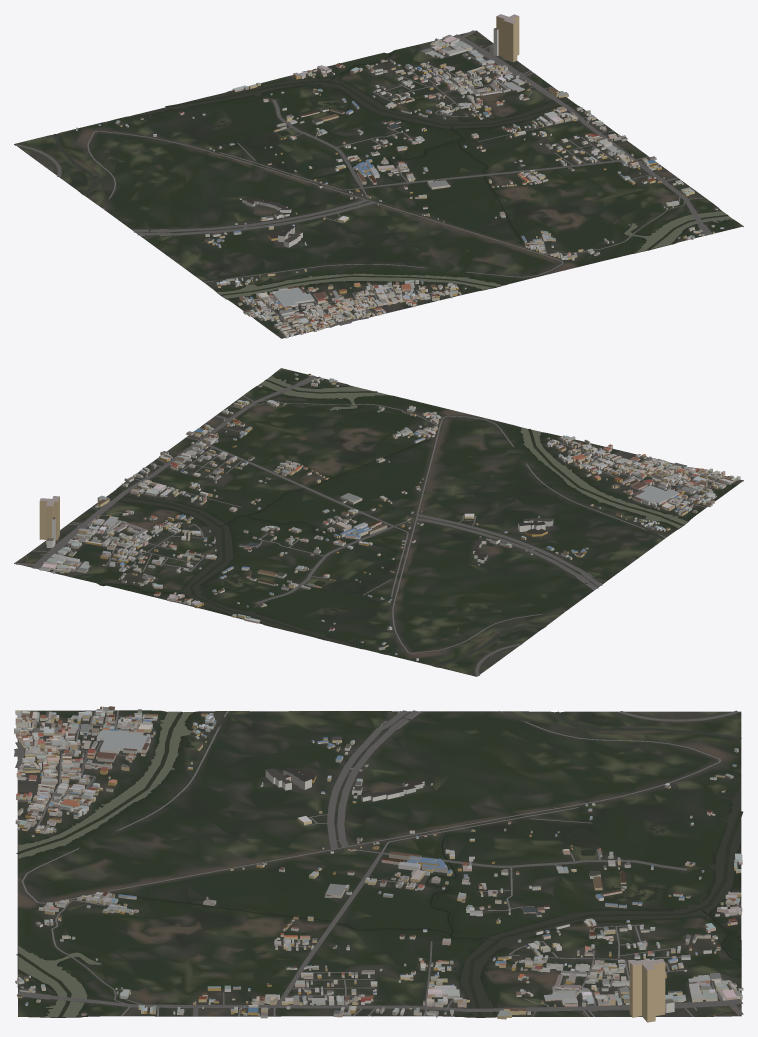
3 views of the same model, one above another, from view 1: azimuth 30°, elevation 25°; view 2: azimuth 150°, elevation 25°; view 3: azimuth 270°, elevation 25° (orthographic). The views are drawn at different scales.
Parts seen in each view (by area): view 1: ground, buildings, water, roads; view 2: ground, buildings, water, roads; view 3: ground, buildings, water, roads.
Boxes of the visible parts, left/top/right/bottom form: ground: left=14, top=30, right=743, bottom=338; buildings: left=76, top=14, right=724, bottom=338; water: left=54, top=52, right=732, bottom=298; roads: left=15, top=30, right=712, bottom=334; ground: left=14, top=368, right=743, bottom=676; buildings: left=39, top=373, right=740, bottom=660; water: left=100, top=376, right=687, bottom=667; roads: left=15, top=375, right=721, bottom=675; ground: left=17, top=710, right=741, bottom=1017; buildings: left=14, top=706, right=743, bottom=1022; water: left=16, top=711, right=743, bottom=1017; roads: left=14, top=710, right=743, bottom=1016.
Size of the model in its own units: 1430 by 116 by 1413.
